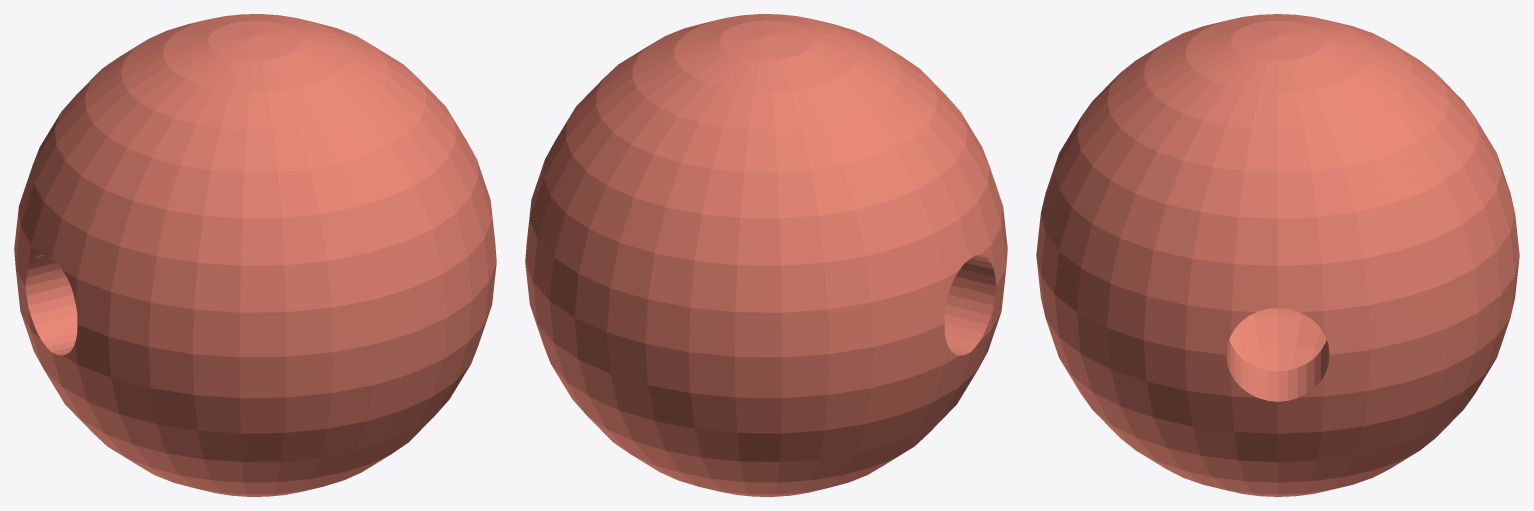
The model's file is testSph.fbx.
3 views of the same model, side by side, from view 1: azimuth 30°, elevation 25°; view 2: azimuth 150°, elevation 25°; view 3: azimuth 270°, elevation 25° (orthographic).
Visible parts, largest first — view 1: 球; view 2: 球; view 3: 球.
Boxes of the visible parts, x1,y1,x2,y2 form: 球: (14,14,496,496); 球: (525,14,1007,496); 球: (1036,14,1519,496).
Size of the model in its own units: 30.12 by 30.89 by 30.89.
